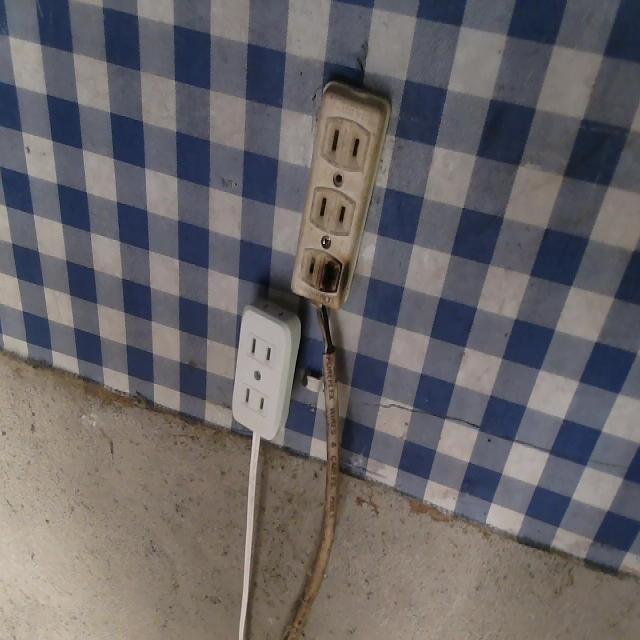-: (318, 252, 344, 300)
